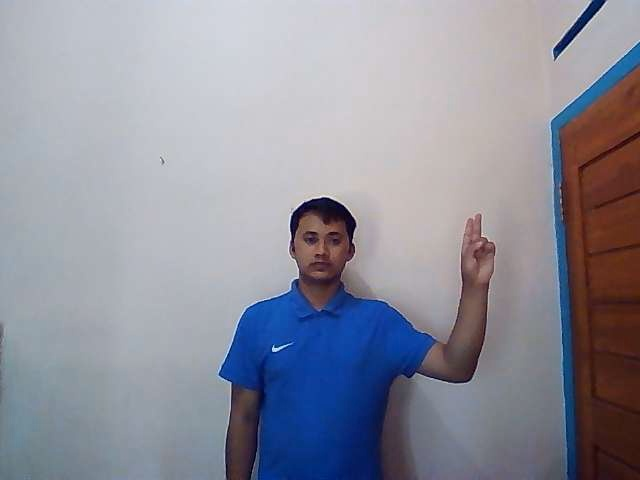U: (459, 212, 496, 288)
